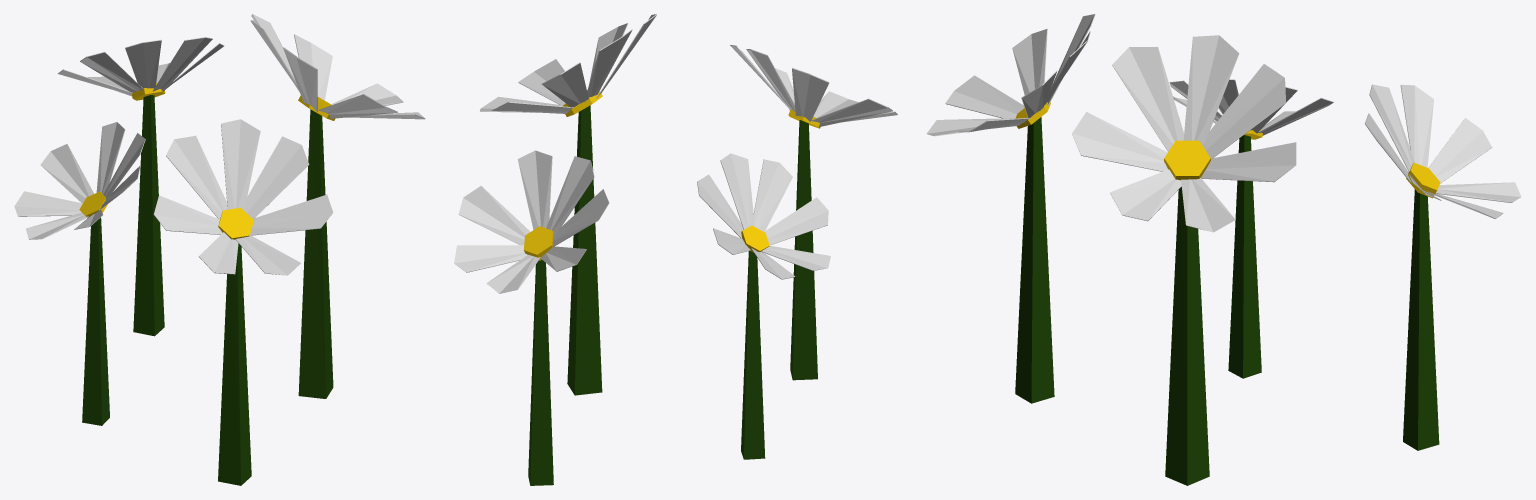
The model's file is Daisy.glb.
3 views of the same model, side by side, from view 1: azimuth 30°, elevation 25°; view 2: azimuth 150°, elevation 25°; view 3: azimuth 270°, elevation 25° (orthographic). The views are drawn at different scales.
Visible parts, largest first — view 1: Asset3DLoader.sceneRoot; view 2: Asset3DLoader.sceneRoot; view 3: Asset3DLoader.sceneRoot.
Boxes of the visible parts, x1,y1,x2,y2 form: Asset3DLoader.sceneRoot: (14, 14, 425, 485); Asset3DLoader.sceneRoot: (454, 14, 897, 485); Asset3DLoader.sceneRoot: (926, 14, 1521, 485).
Bounding box in the file's own units: 1.17 × 1.17 × 1.53.
